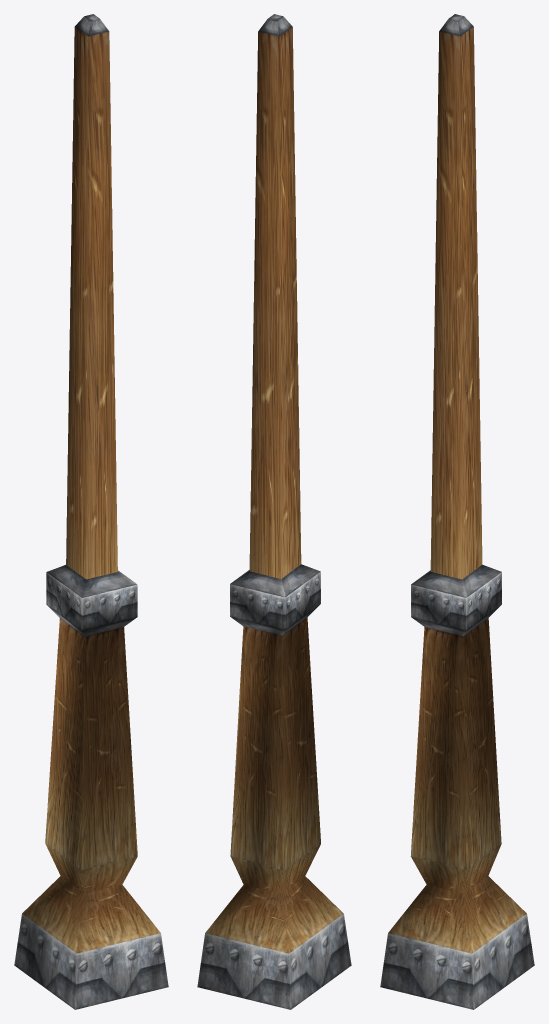
Rendered from flagpole01.glb.
3 views of the same model, side by side, from view 1: azimuth 30°, elevation 25°; view 2: azimuth 150°, elevation 25°; view 3: azimuth 330°, elevation 25° (orthographic).
Size of the model in its own units: 1.02 by 9.99 by 1.15.
1 material, 1 textured.
